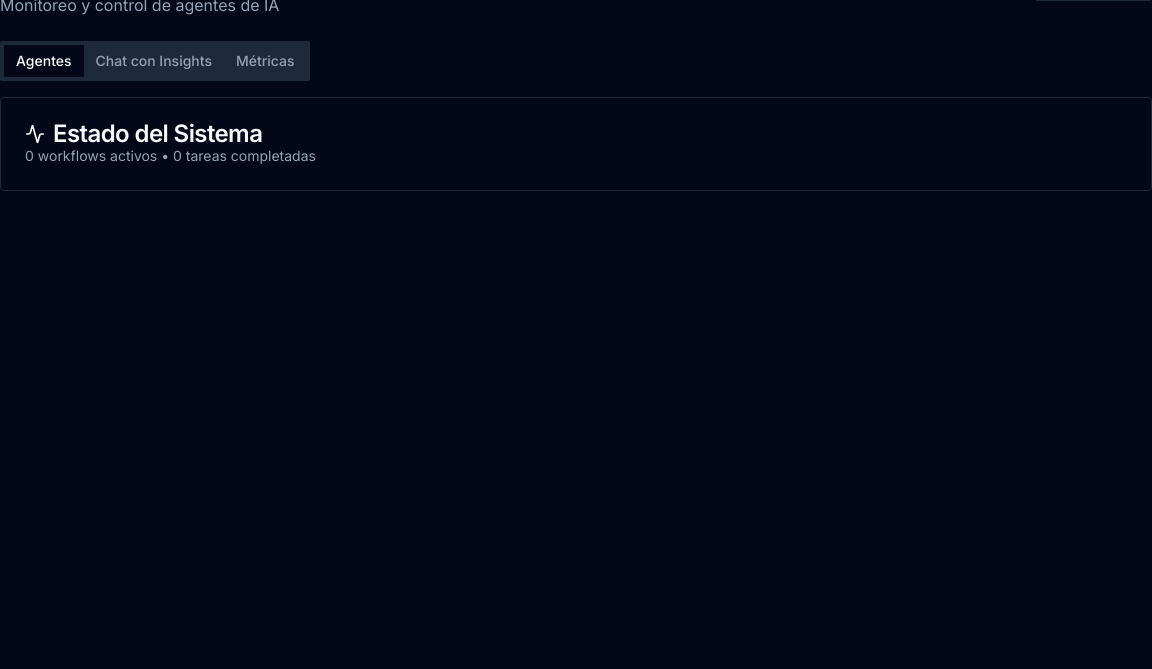
Test: Chat con Insights — Limpiar chat › un segundo clear sin mensajes nuevos vuelve a estar deshabilitado
Step 1. Press the mouse on the tab "Chat con Insights" → coordinates (154, 61), box [84,45,224,77]
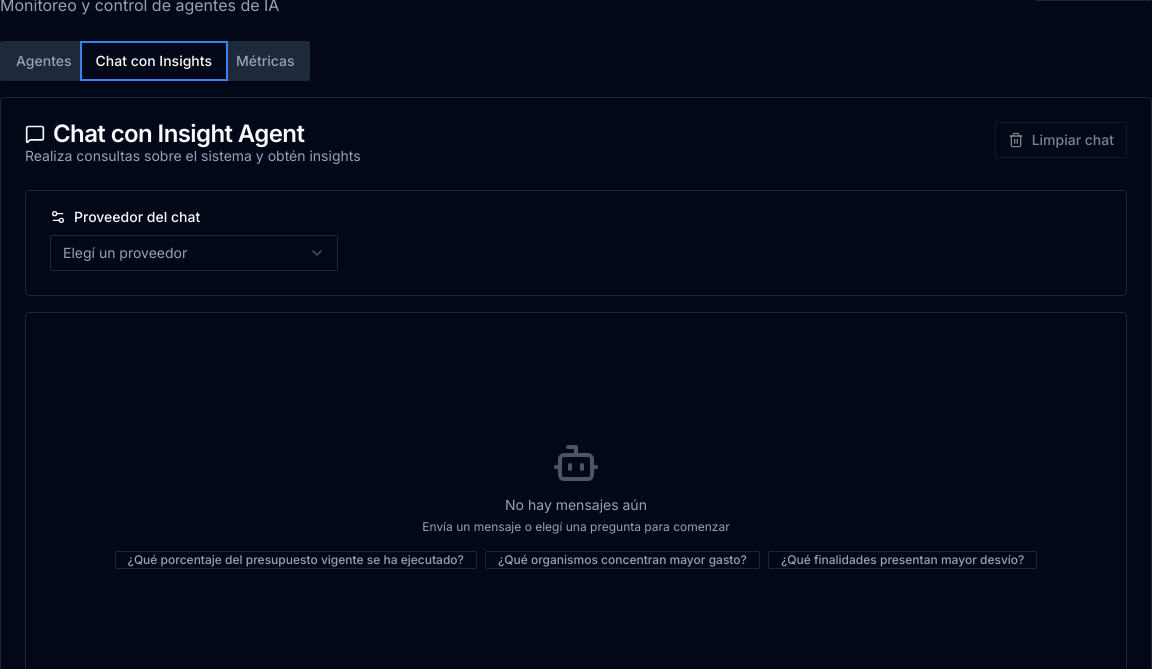
Step 2. Press Enter in the tab "Chat con Insights", box [84,45,224,77]
Step 3. Click the tab "Chat con Insights" → coordinates (154, 61), box [84,45,224,77]
(page scrolled)
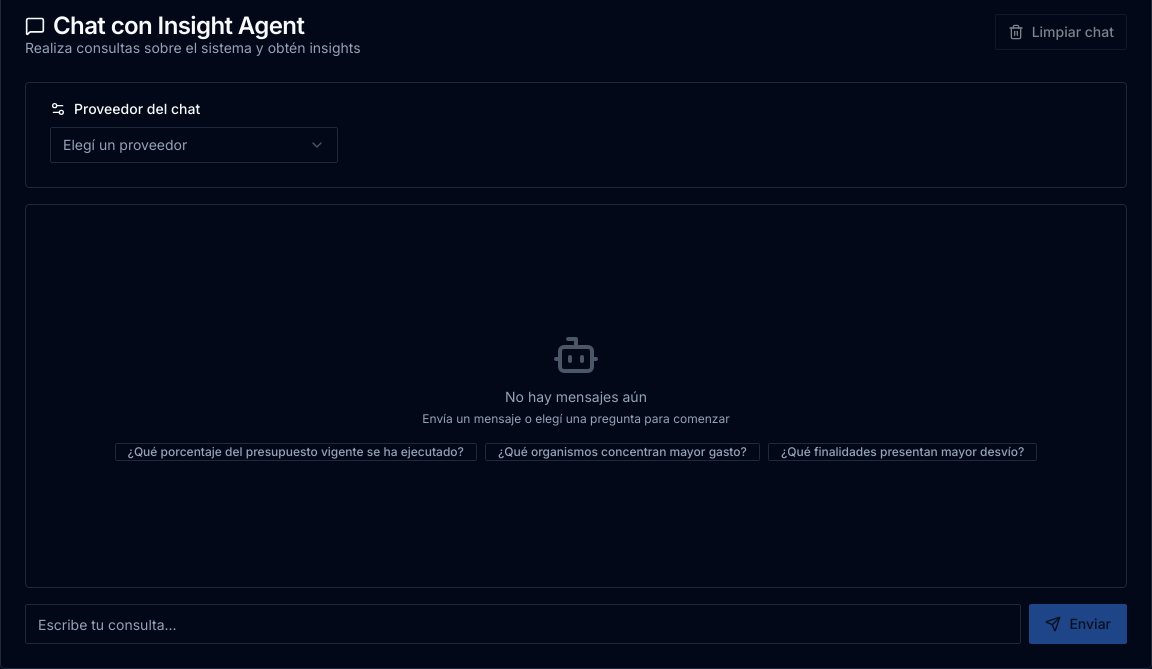
Step 4. Type "¿Qué organismos concentran mayor gasto?" into the field with placeholder "Escribe tu consulta..." → coordinates (523, 624), box [25,604,1021,644]
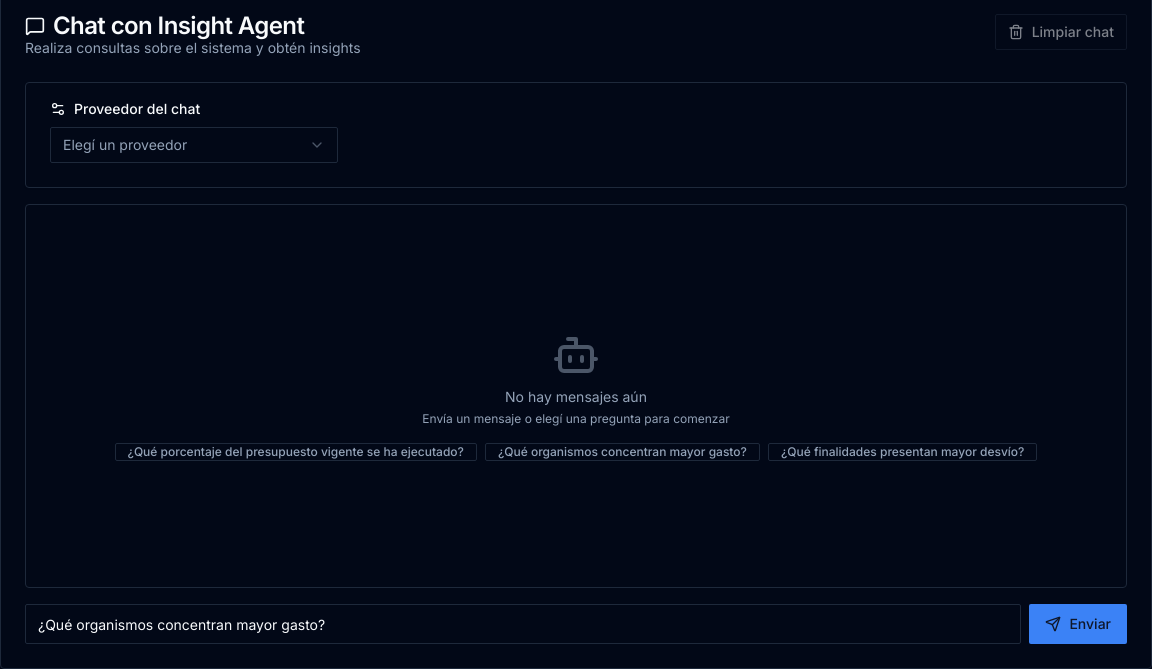
Step 5. Click the button "Enviar" → coordinates (1078, 624), box [1029,604,1127,644]
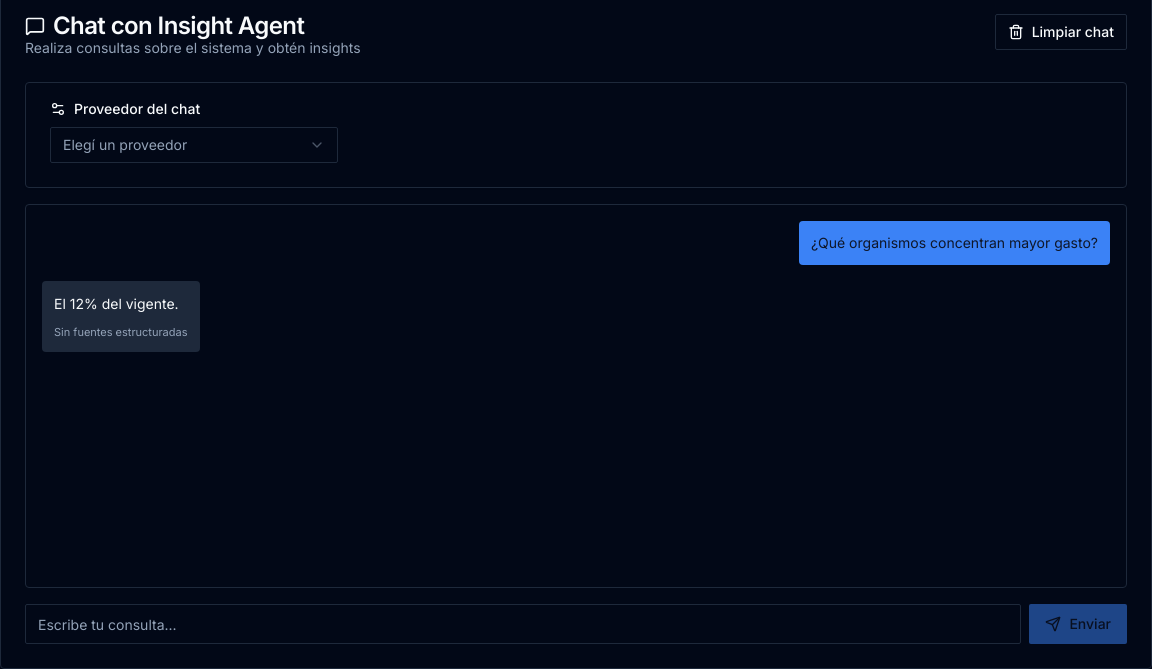
Result: the text "El 12% del vigente." is shown at [54,293,188,316]
Step 6. Click the button with test id "chat-clear" → coordinates (1061, 32), box [995,14,1127,50]
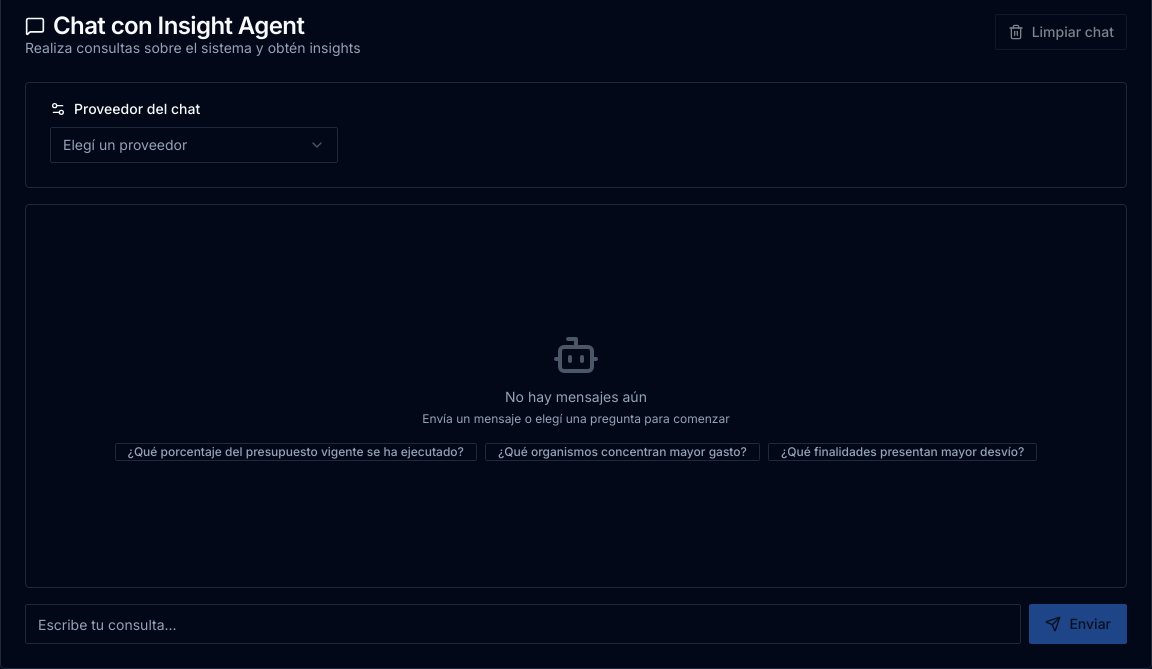
Result: the element with test id "chat-suggestions" is shown at [115,443,1038,461]
Result: the button with test id "chat-clear" is disabled at [995,14,1127,50]
